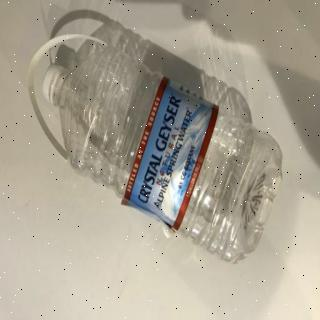Plastic-bottle: (25, 33, 285, 269)
